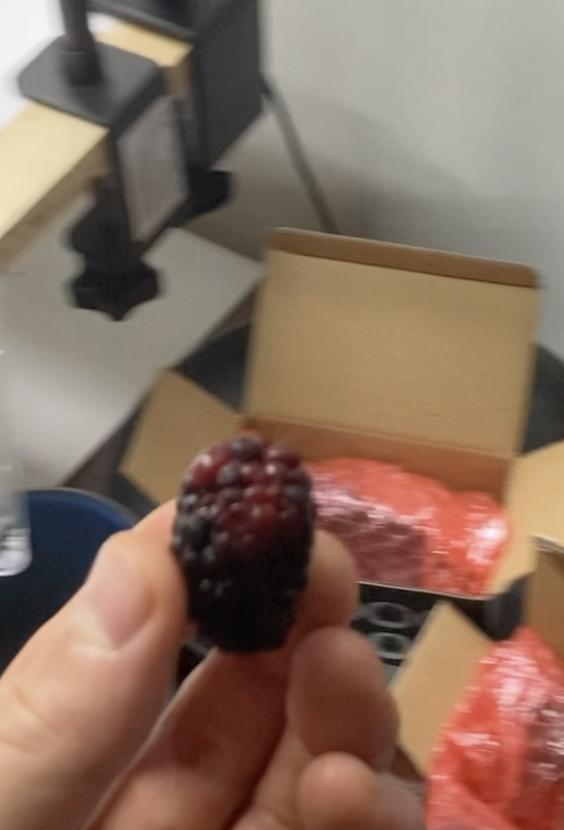berry: (172, 436, 316, 654)
red drouplet: (185, 445, 230, 489), (264, 444, 301, 468), (249, 501, 276, 527), (263, 458, 289, 482), (244, 483, 272, 504), (265, 479, 286, 507), (240, 460, 265, 483), (225, 500, 249, 520)
